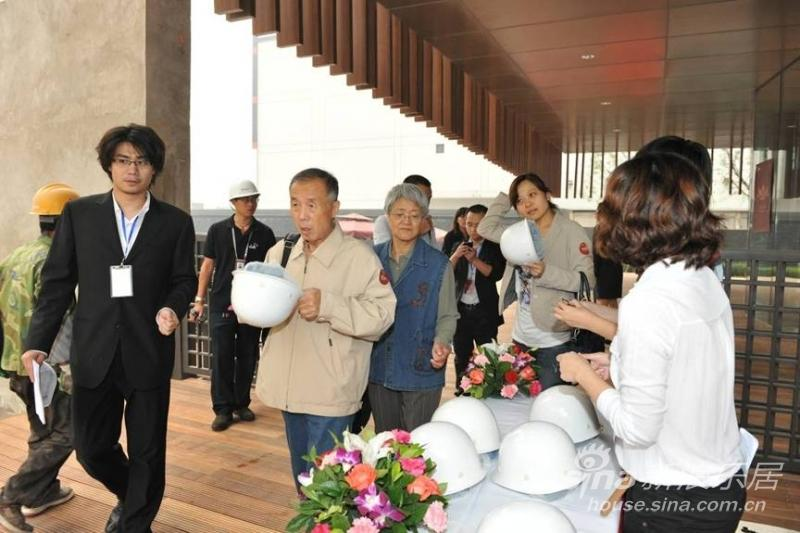helmet: (491, 421, 588, 497), (410, 418, 488, 497), (231, 266, 306, 327), (433, 393, 499, 456), (532, 382, 600, 443), (479, 501, 581, 533), (499, 218, 547, 268), (28, 183, 82, 219), (229, 179, 262, 204)
